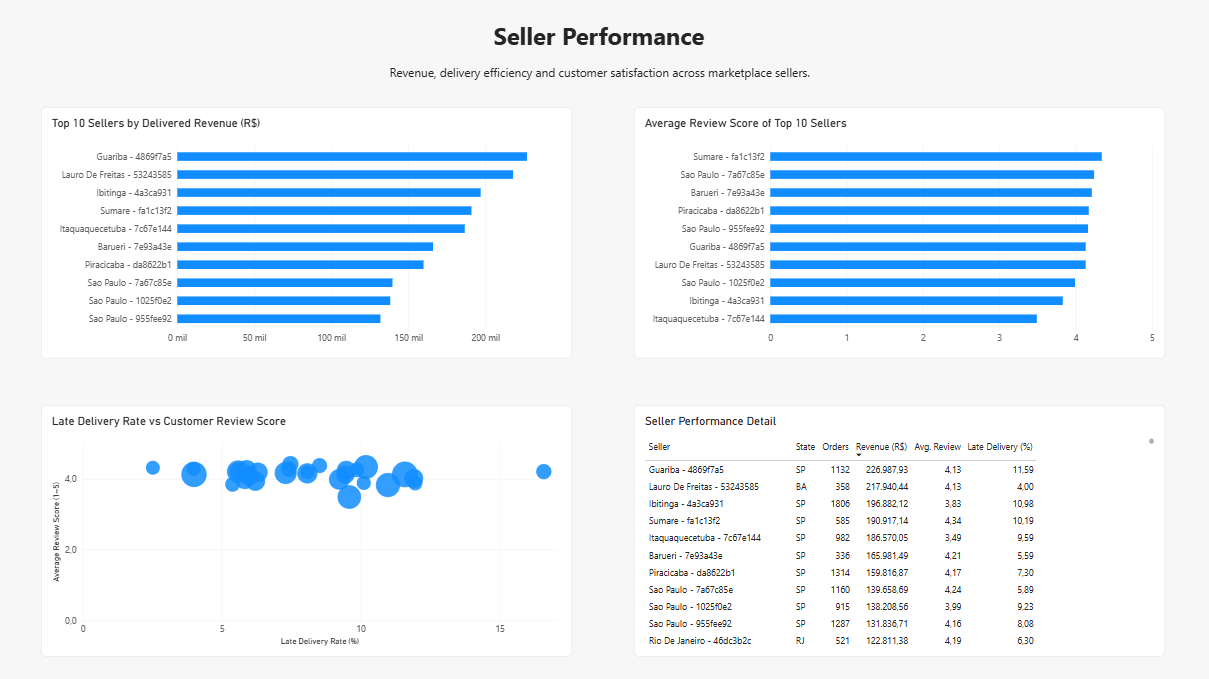

What the dashboard file says about the page in this screenshot:
{"tool":"powerbi","page":{"name":"4. Seller Performance","canvas":[1920,1080],"ordinal":3},"visuals":[{"type":"textbox","box":[529.8,36.9,842.3,68.8],"z":0},{"type":"textbox","box":[578.9,105.4,746.9,50.4],"z":1000},{"type":"clusteredBarChart","title":"Top 10 Sellers by Delivered Revenue (R$)","fields":{"Category":["04_seller_performance.seller_label"],"Y":["Sum(04_seller_performance.delivered_item_revenue)"]},"box":[71.1,173.6,838.4,396.9],"z":2000},{"type":"clusteredBarChart","title":"Average Review Score of Top 10 Sellers","fields":{"Category":["04_seller_performance.seller_label"],"Y":["Sum(04_seller_performance.average_review_score)"]},"box":[1007.1,173.6,838.4,396.9],"z":3000},{"type":"scatterChart","title":"Late Delivery Rate vs Customer Review Score","fields":{"Category":["04_seller_performance.seller_id"],"Size":["Sum(04_seller_performance.delivered_item_revenue)"],"X":["Sum(04_seller_performance.late_delivery_rate_pct)"],"Y":["Sum(04_seller_performance.average_review_score)"]},"box":[71.1,643.3,838.4,396.9],"z":4000},{"type":"tableEx","title":"Seller Performance Detail","fields":{"Values":["04_seller_performance.seller_label","04_seller_performance.seller_state","Sum(04_seller_performance.number_of_orders)","Sum(04_seller_performance.delivered_item_revenue)","Sum(04_seller_performance.average_review_score)","Sum(04_seller_performance.late_delivery_rate_pct)"]},"box":[1007.1,643.3,838.4,396.9],"z":5000}]}

Visuals, with their boxes in screenshot pixels (x1, y1, x2, y2), scaled from the page's 1920x1080 canvas onto the 1209x679 screenshot:
textbox: [left=334, top=23, right=864, bottom=66]
textbox: [left=365, top=66, right=835, bottom=98]
"Top 10 Sellers by Delivered Revenue (R$)" clusteredBarChart: [left=45, top=109, right=573, bottom=359]
"Average Review Score of Top 10 Sellers" clusteredBarChart: [left=634, top=109, right=1162, bottom=359]
"Late Delivery Rate vs Customer Review Score" scatterChart: [left=45, top=404, right=573, bottom=654]
"Seller Performance Detail" tableEx: [left=634, top=404, right=1162, bottom=654]
